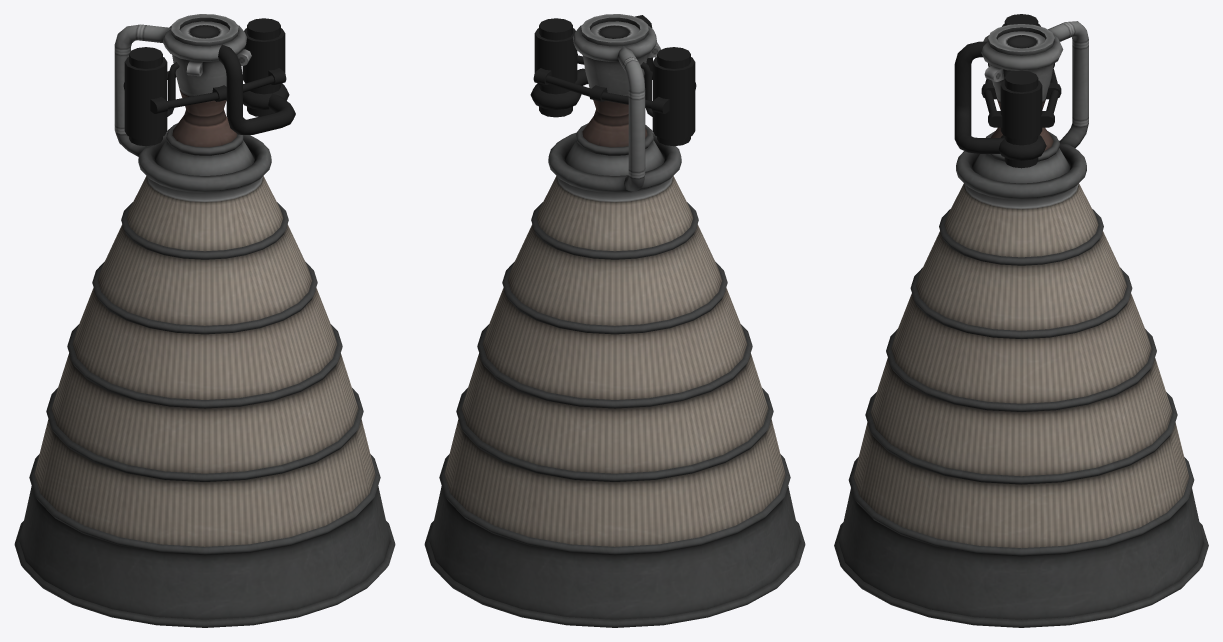
The model's file is pearl_engine_s0_1_nozzle.obj.
The picture shows the model from 3 angles, left to right: view 1: azimuth 30°, elevation 25°; view 2: azimuth 150°, elevation 25°; view 3: azimuth 270°, elevation 25°; orthographic projection.
Parts seen in each view (by area): view 1: pearl_engine_s0_1_nozzle; view 2: pearl_engine_s0_1_nozzle; view 3: pearl_engine_s0_1_nozzle.
Part boxes in pixels (box(x1,y1,x2,y2)): pearl_engine_s0_1_nozzle: box(14, 14, 395, 627); pearl_engine_s0_1_nozzle: box(424, 14, 805, 627); pearl_engine_s0_1_nozzle: box(834, 14, 1208, 627).
Bounding box in the file's own units: 1.12 × 1.69 × 1.12.
